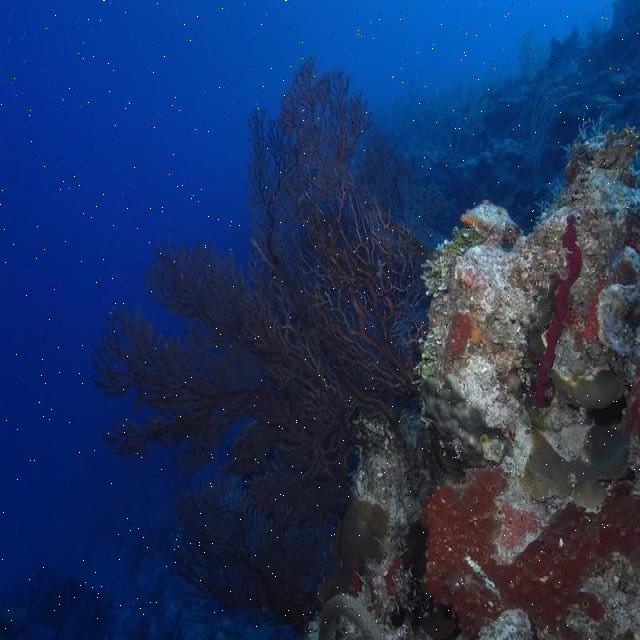aquatic plants: (92, 53, 431, 627)
sea-floor: (296, 114, 639, 638)
